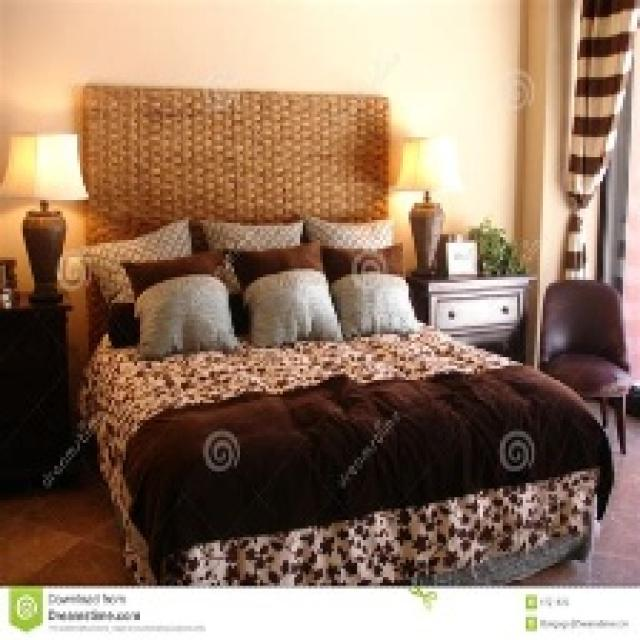Bed: (75, 80, 614, 586)
